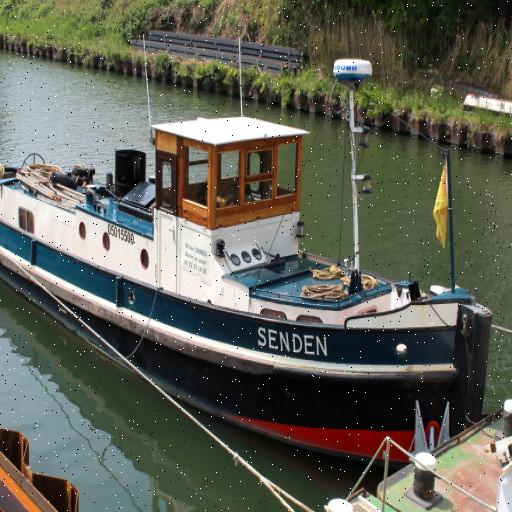tugboat: (1, 57, 497, 482)
